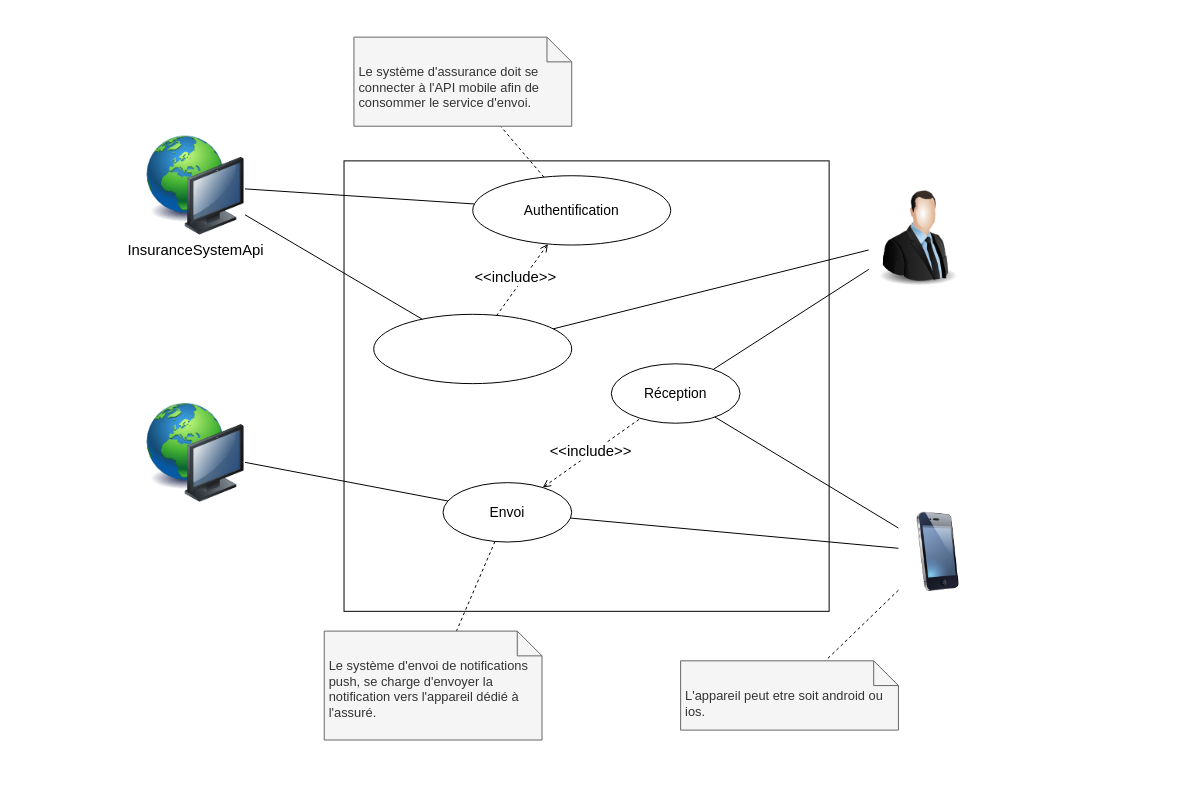
Some shapes in this 1182 by 786 pixel diagram are drawn without their labels. Here are the shapes that lost their labels. From the top down, the centre of each, then its label:
the point at 917,237: Insured
the point at 472,348: Ordre d'envoi
the point at 195,452: PushNotificationApi
the point at 937,551: Device
